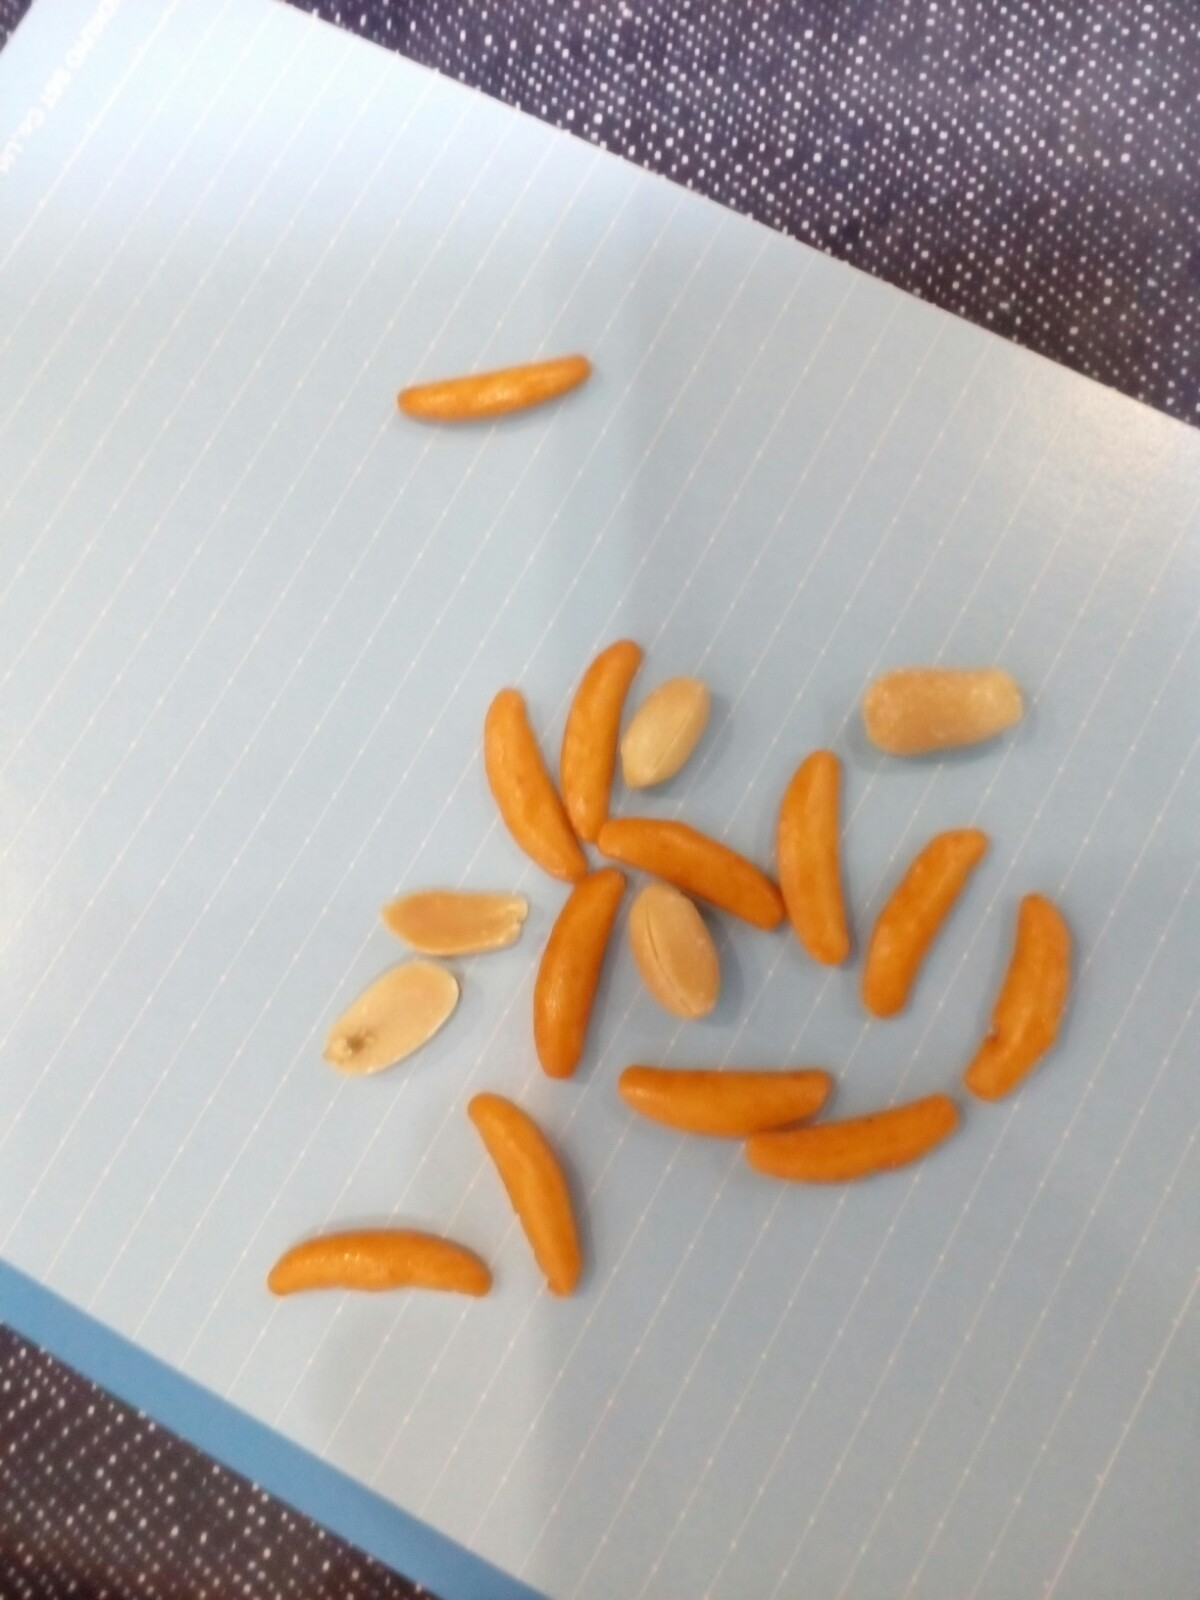peanut: (858, 655, 1042, 770), (318, 959, 475, 1082), (621, 876, 735, 1029), (611, 671, 720, 787), (377, 882, 531, 957)
